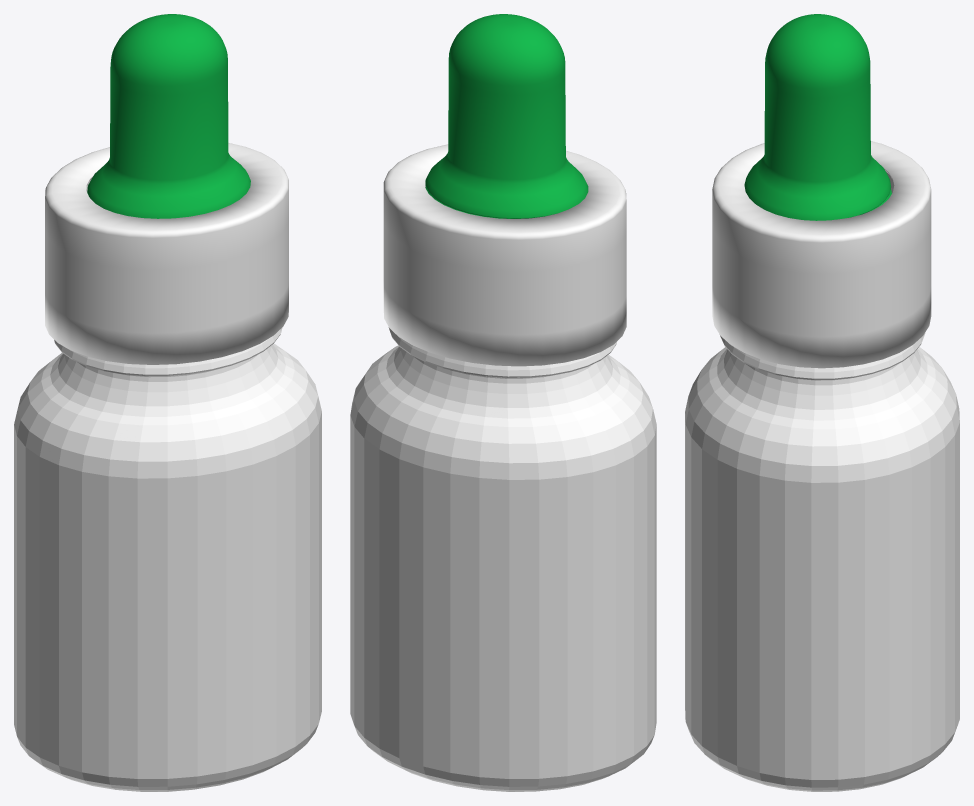
3 renders of one model, left to right at view 1: azimuth 30°, elevation 25°; view 2: azimuth 150°, elevation 25°; view 3: azimuth 270°, elevation 25°, orthographic.
Visible parts, largest first — view 1: Cylinder.001, Cylinder.004, bottom.004; view 2: Cylinder.001, Cylinder.004, bottom.004; view 3: Cylinder.001, Cylinder.004, bottom.004.
Boxes of the visible parts, bbox=[...] form: Cylinder.001: bbox=[14, 327, 321, 791]; Cylinder.004: bbox=[45, 143, 288, 364]; bottom.004: bbox=[87, 14, 250, 218]; Cylinder.001: bbox=[350, 327, 656, 791]; Cylinder.004: bbox=[383, 144, 626, 366]; bottom.004: bbox=[425, 14, 588, 218]; Cylinder.001: bbox=[685, 187, 959, 791]; Cylinder.004: bbox=[712, 141, 931, 368]; bottom.004: bbox=[744, 14, 891, 220].
Size of the model in its own units: 1.53 by 3.86 by 1.35.
